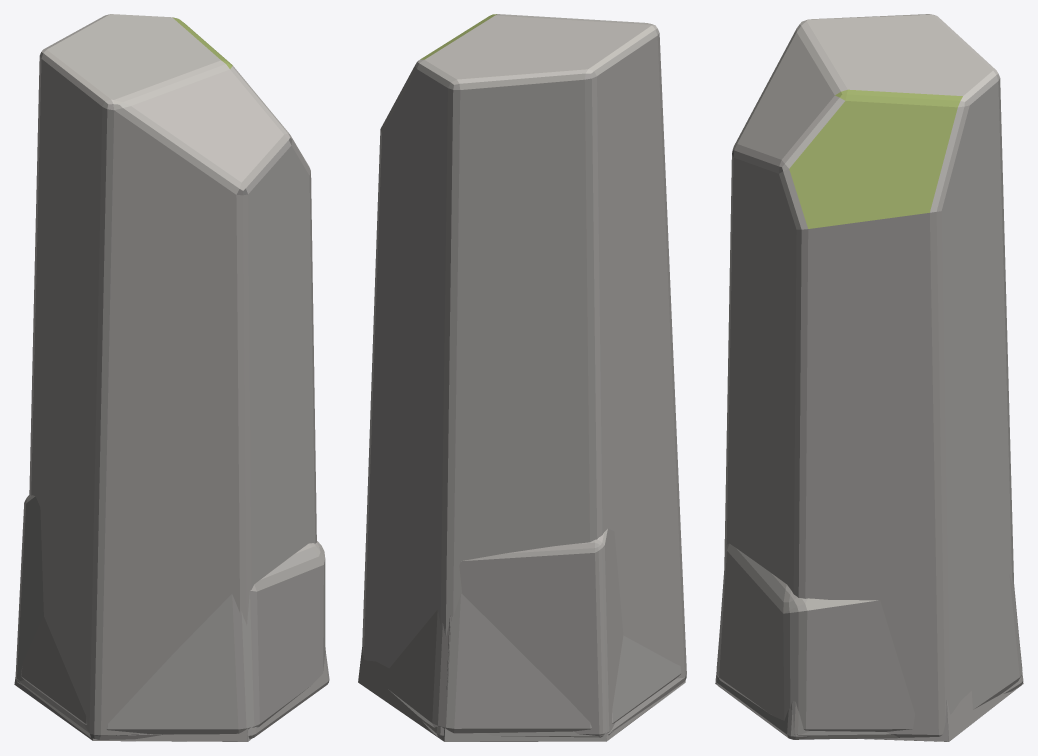
File: stone-kit.glb
3 renders of one model, left to right at view 1: azimuth 30°, elevation 25°; view 2: azimuth 150°, elevation 25°; view 3: azimuth 270°, elevation 25°, orthographic. The views are drawn at different scales.
Visible parts, largest first — view 1: stone_tall, stone_pebble, stone_boulder, stone_wedge, stone_block, stone_slab; view 2: stone_tall, stone_boulder, stone_pebble, stone_wedge, stone_block, stone_slab; view 3: stone_tall, stone_pebble, stone_wedge, stone_block, stone_slab.
Part boxes in pixels (x1,y1,x2,y2): stone_tall: (29,14,316,736); stone_pebble: (21,541,325,734); stone_boulder: (15,494,326,680); stone_wedge: (14,677,251,741); stone_block: (16,651,329,738); stone_slab: (18,680,162,739); stone_tall: (362,14,686,678); stone_boulder: (459,528,623,736); stone_pebble: (387,594,681,733); stone_wedge: (358,615,685,741); stone_block: (421,719,614,738); stone_slab: (610,675,686,731); stone_tall: (724,14,1014,737); stone_pebble: (716,543,1022,731); stone_wedge: (715,584,1023,741); stone_block: (715,673,1023,739); stone_slab: (797,731,898,739).
Bounding box in the file's own units: 1 × 2.55 × 1.14.
